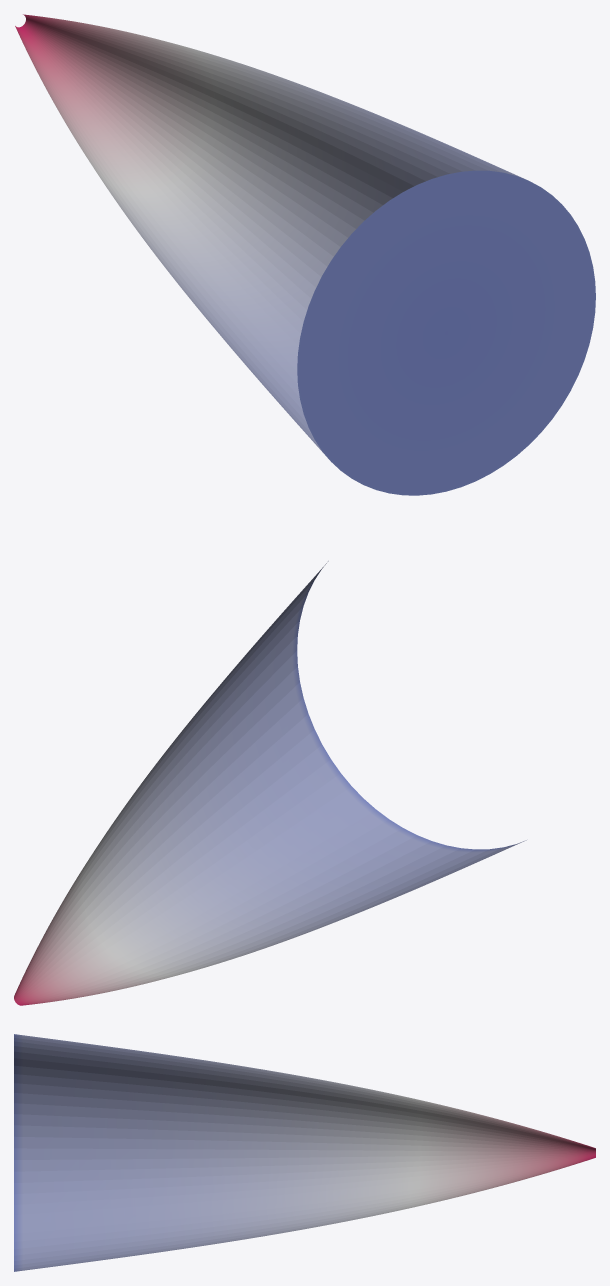
File: frame_022.glb
3 views of the same model, one above another, from view 1: azimuth 30°, elevation 25°; view 2: azimuth 150°, elevation 25°; view 3: azimuth 270°, elevation 25° (orthographic). The views are drawn at different scales.
Parts seen in each view (by area): view 1: world; view 2: world; view 3: world.
Boxes of the visible parts, x1=… form: world: x1=15, y1=14, x2=595, y2=495; world: x1=14, y1=561, x2=526, y2=1005; world: x1=14, y1=1034, x2=595, y2=1271.
Size of the model in its own units: 0.4043 by 0.41 by 1.
